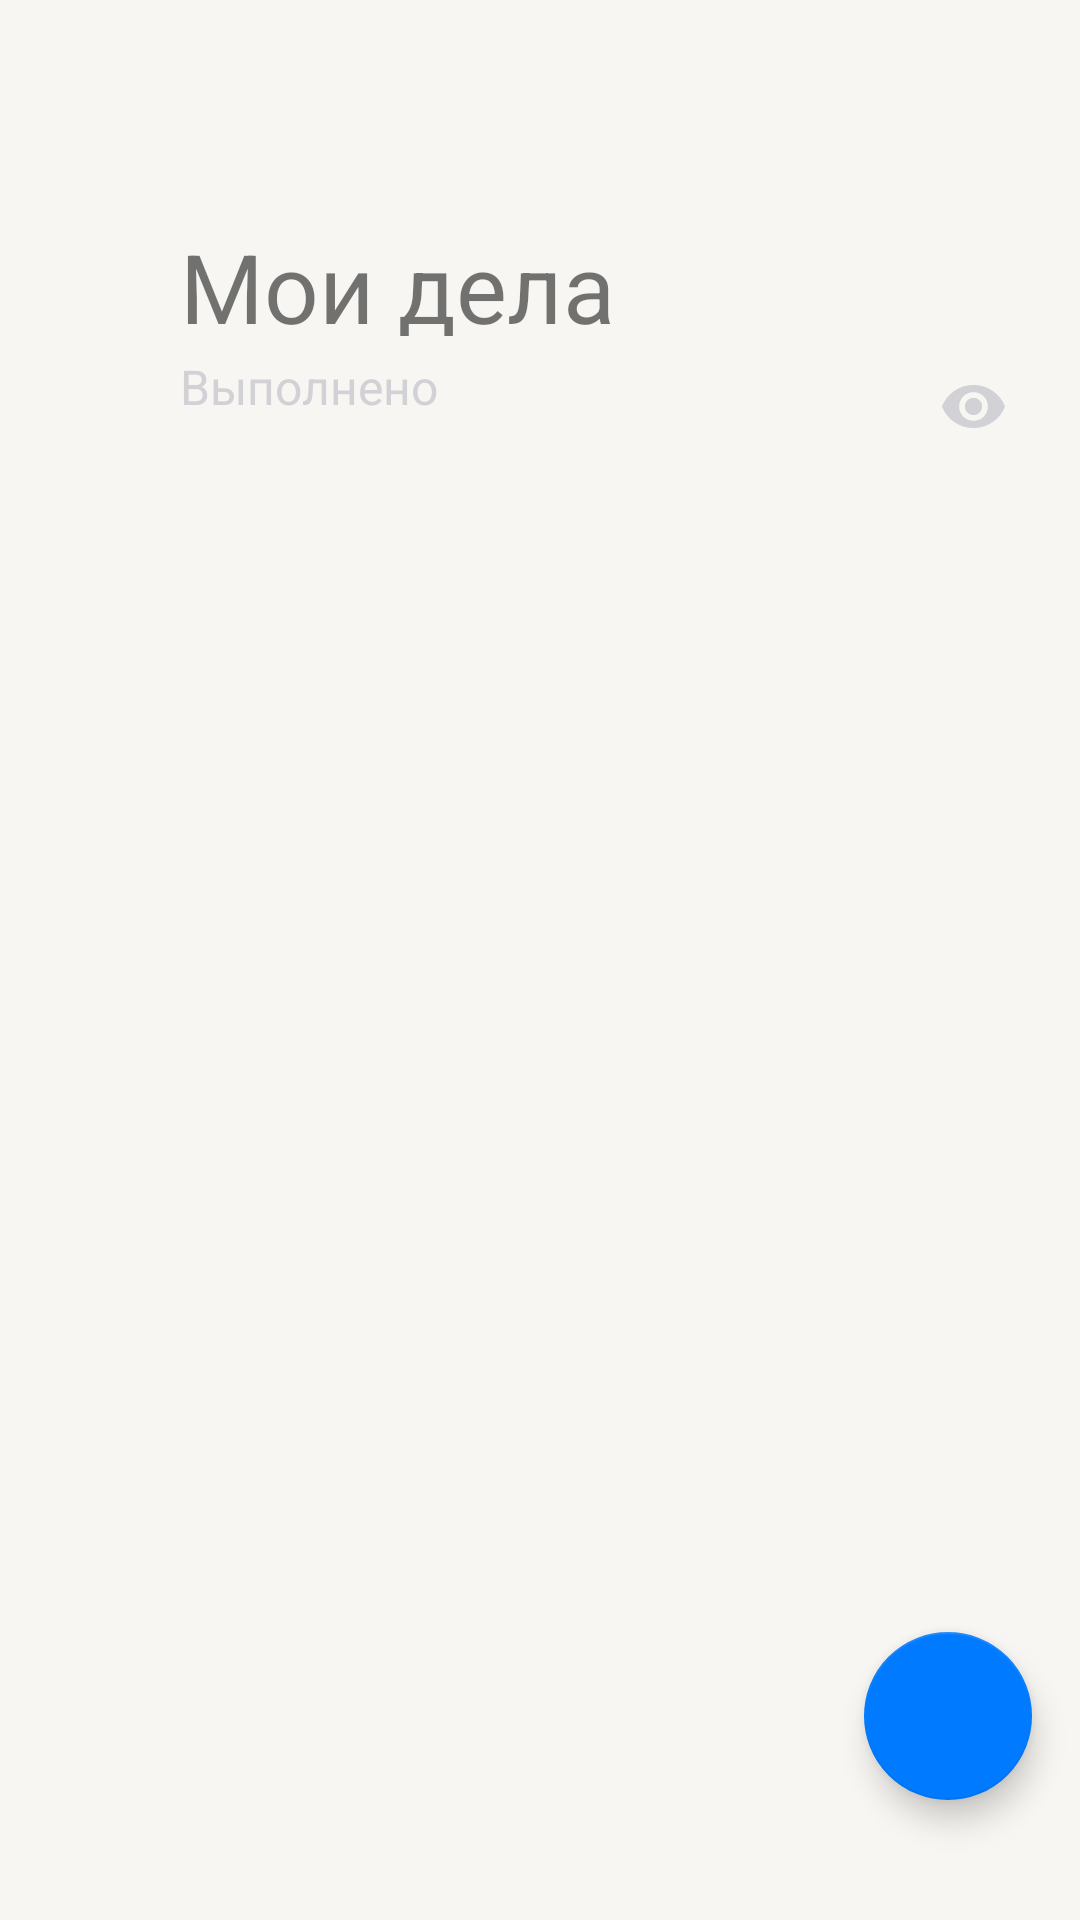

Named icons in this screenshot (1080 x 1920) and their bounding boxes, rect(x1, y1, x2, y2):
remove eye: rect(942, 385, 1005, 428)
